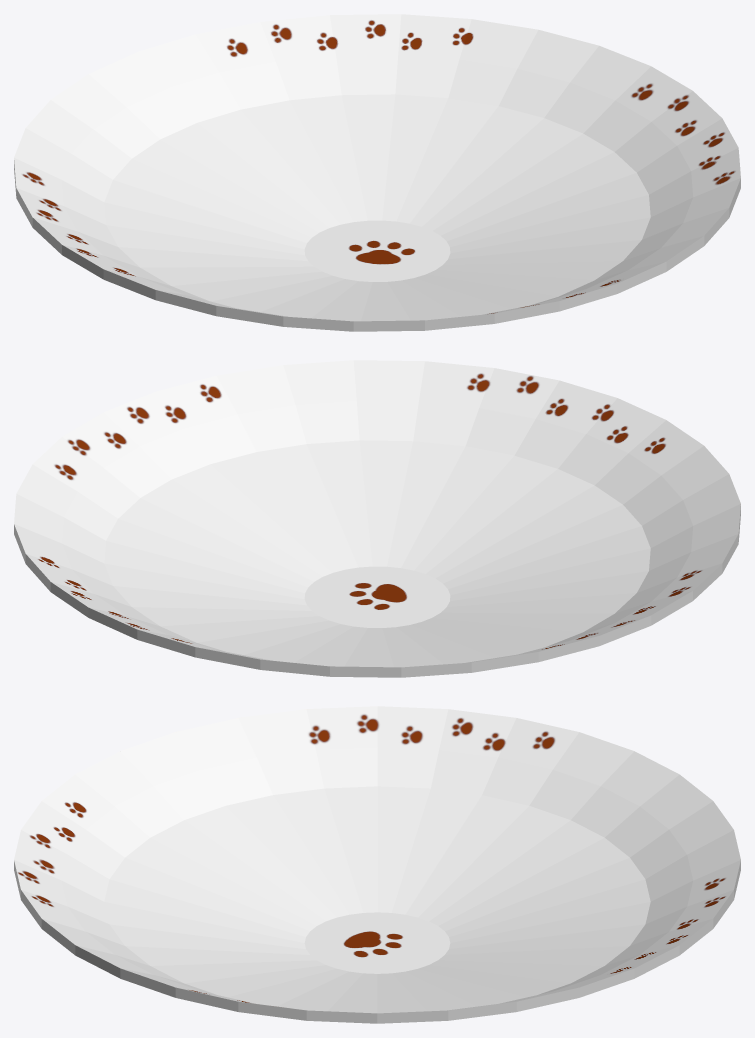
The model's file is Plate.fbx.
The picture shows the model from 3 angles, top to bottom: view 1: azimuth 30°, elevation 25°; view 2: azimuth 150°, elevation 25°; view 3: azimuth 270°, elevation 25°; orthographic projection.
Visible parts, largest first — view 1: 円柱; view 2: 円柱; view 3: 円柱.
Part boxes in pixels (x1,y1,x2,y2): 円柱: (14, 14, 740, 331); 円柱: (14, 360, 740, 677); 円柱: (14, 706, 740, 1023).
Size of the model in its own units: 200 by 27.16 by 200.
Materials: 1 (1 with a texture image).
